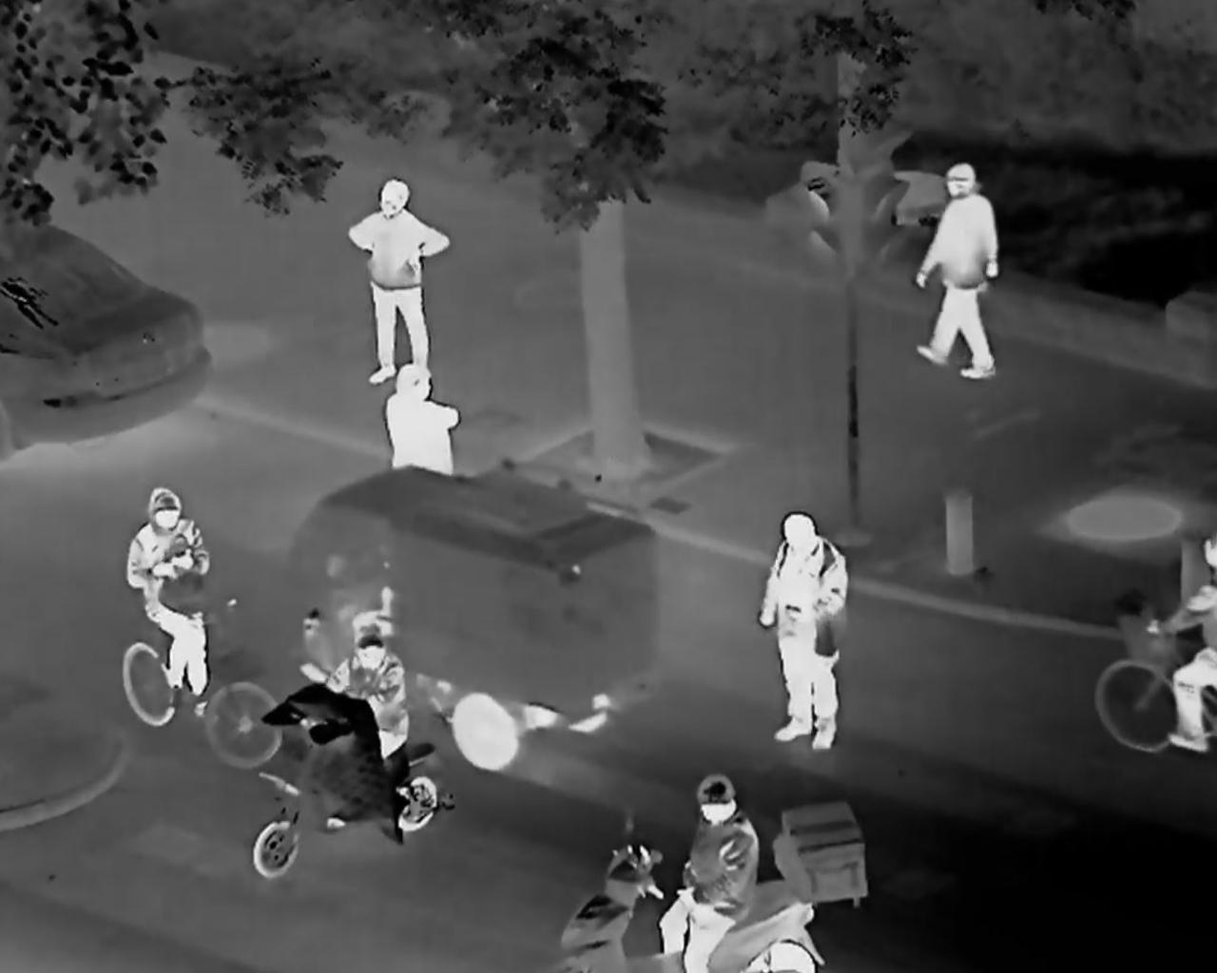person: (110, 467, 234, 721), (641, 764, 766, 973), (334, 176, 467, 368), (915, 154, 1019, 395), (755, 501, 852, 743), (313, 612, 424, 789), (1158, 539, 1217, 731), (375, 372, 461, 479)
